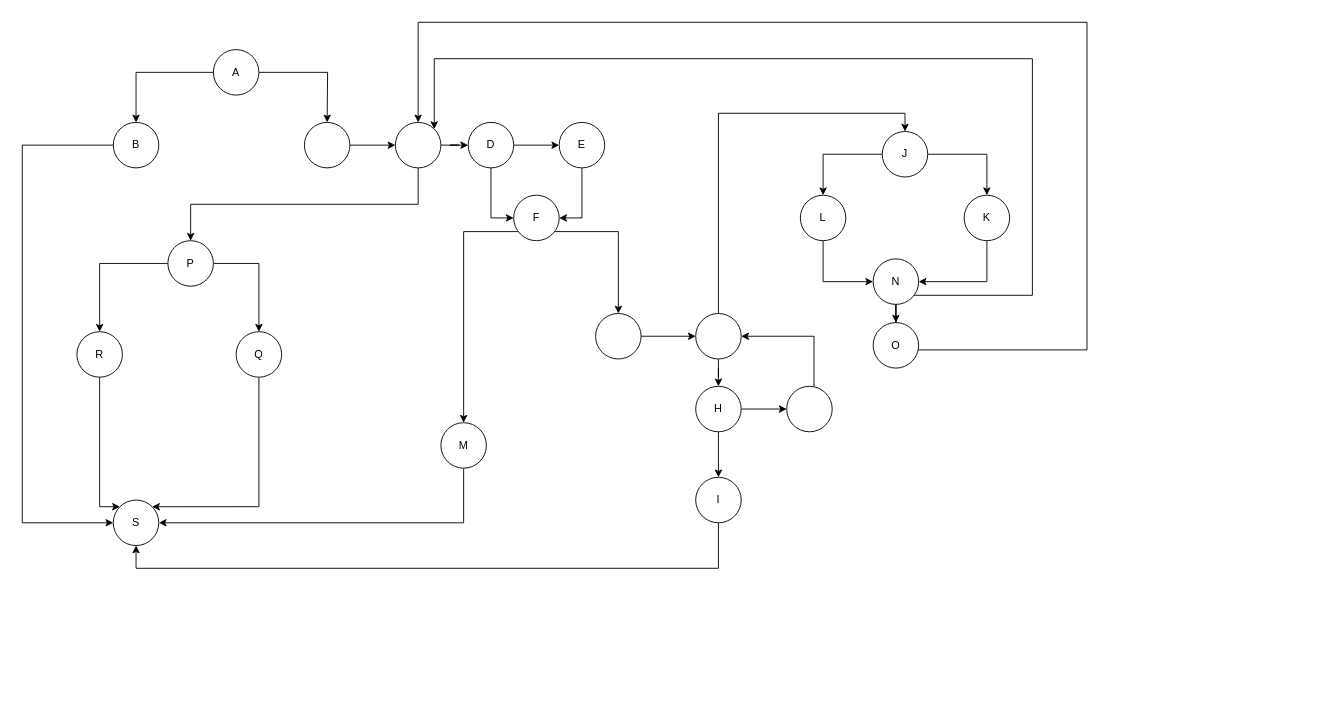
Image size: 1340x712. Some labels were removed from this diagram. Each missing label, with the box of its shape:
C1: (303, 121, 350, 168)
C2: (394, 121, 441, 168)
G1: (595, 313, 641, 359)
G2: (695, 313, 741, 359)
G3: (786, 385, 832, 432)
